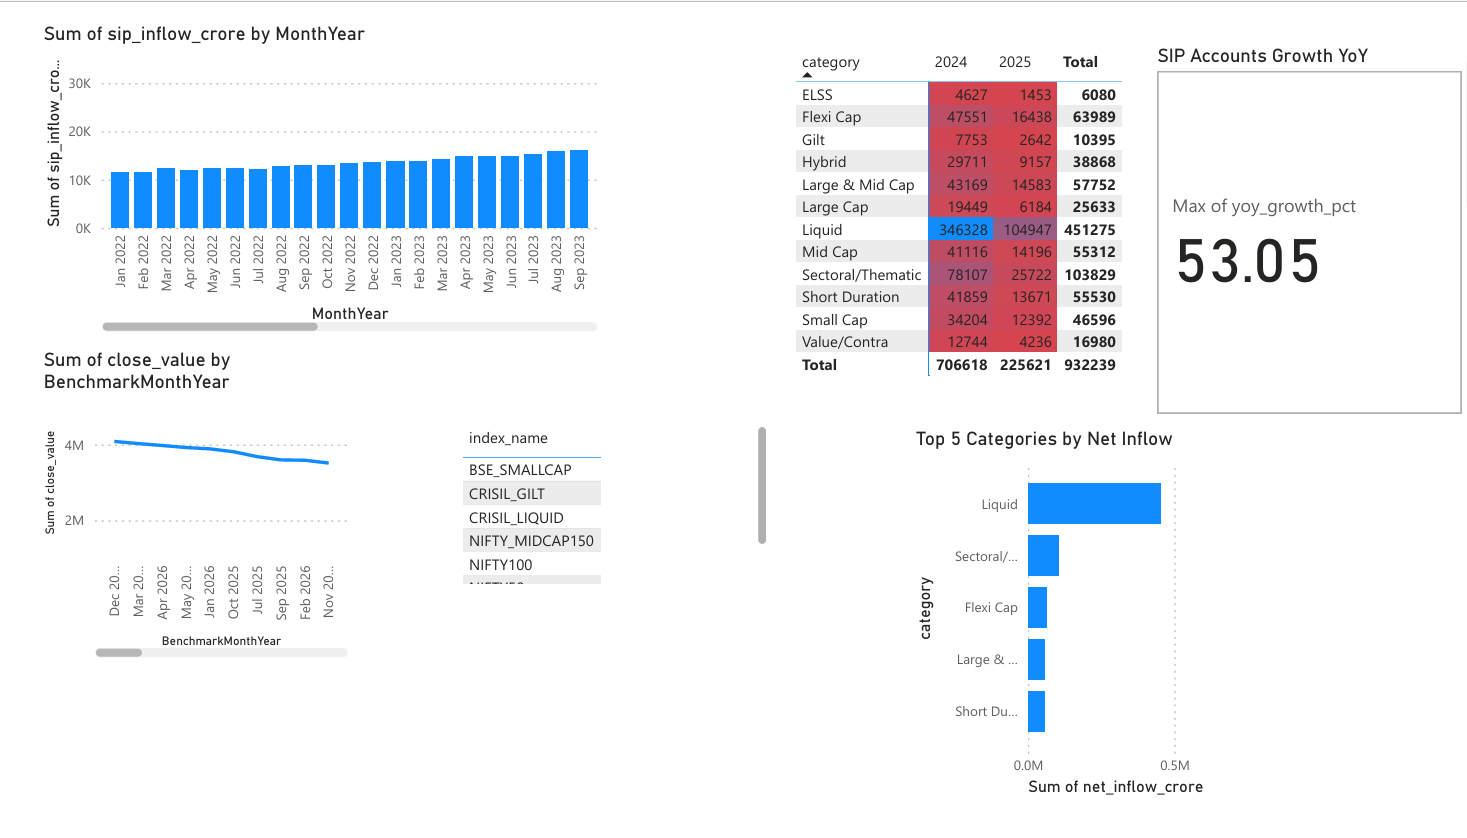

Layout of this report page (visuals, bound fields, positions):
{"tool":"powerbi","page":{"name":"SIP & Market Trends","canvas":[1280,720],"ordinal":3},"visuals":[{"type":"lineClusteredColumnComboChart","fields":{"Y":["Sum(clean_sip_inflows.sip_inflow_crore)"],"Category":["clean_sip_inflows.MonthYear"]},"box":[9.8,0,502.6,280],"z":0},{"type":"lineChart","fields":{"Y":["Sum(clean_benchmark_indices.close_value)"],"Category":["clean_benchmark_indices.BenchmarkMonthYear"]},"box":[10,290,280,280],"z":1000},{"type":"tableEx","fields":{"Values":["clean_benchmark_indices.index_name"]},"box":[381.9,353.8,280.8,150.2],"z":2000},{"type":"pivotTable","fields":{"Rows":["clean_category_inflows.category"],"Columns":["clean_category_inflows.month.Variation.Date Hierarchy.Year","clean_category_inflows.month.Variation.Date Hierarchy.Quarter","clean_category_inflows.month.Variation.Date Hierarchy.Month","clean_category_inflows.month.Variation.Date Hierarchy.Day"],"Values":["Sum(clean_category_inflows.net_inflow_crore)"]},"box":[678.7,19.6,310.6,333.8],"z":3000},{"type":"clusteredBarChart","title":"Top 5 Categories by Net Inflow","fields":{"Category":["clean_category_inflows.category"],"Y":["Sum(clean_category_inflows.net_inflow_crore)"]},"box":[785.1,359.5,280,333.8],"z":4000},{"type":"cardVisual","title":"SIP Accounts Growth YoY","fields":{"Data":["Max(clean_sip_inflows.yoy_growth_pct)"]},"box":[1000,20,280,334],"z":4001}]}

Visuals, with their boxes in screenshot pixels (x1, y1, x2, y2), scaled from the page's 1280x720 canvas onto the 1467x838 screenshot:
lineClusteredColumnComboChart - Sum(clean_sip_inflows.sip_inflow_crore) x clean_sip_inflows.MonthYear: <region>11, 0, 587, 326</region>
lineChart - Sum(clean_benchmark_indices.close_value) x clean_benchmark_indices.BenchmarkMonthYear: <region>11, 338, 332, 663</region>
tableEx - clean_benchmark_indices.index_name: <region>438, 412, 760, 587</region>
pivotTable - clean_category_inflows.category x clean_category_inflows.month.Variation.Date Hierarchy.Year: <region>778, 23, 1134, 411</region>
"Top 5 Categories by Net Inflow" clusteredBarChart: <region>900, 418, 1221, 807</region>
"SIP Accounts Growth YoY" cardVisual: <region>1146, 23, 1466, 412</region>
